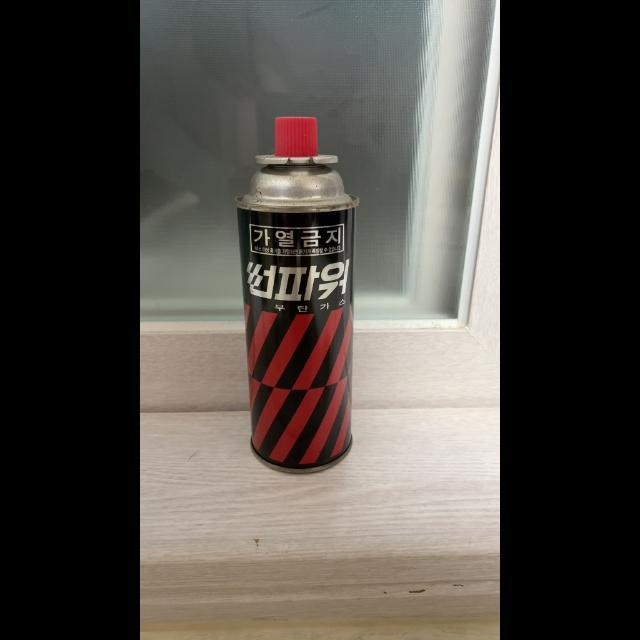chemical_spray_can: (204, 109, 392, 503)
